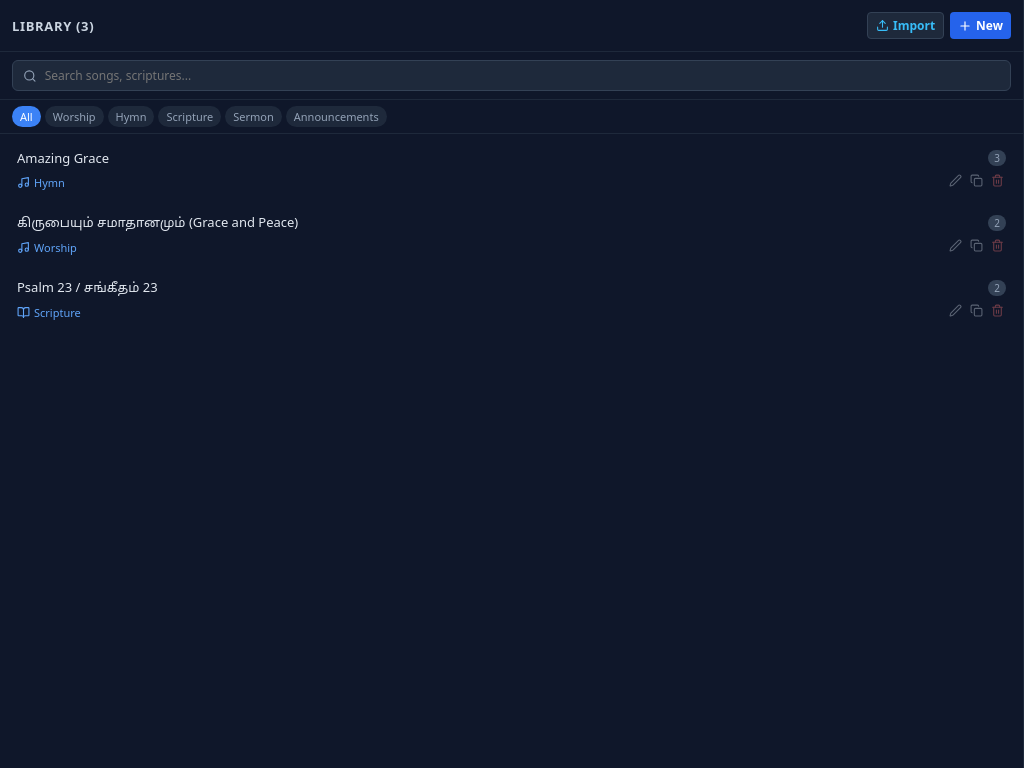
it: presentation list › finds a presentation by text on its slides and shows which slide
This screenshot has width=1024, height=768.
Type "wretch like" into the field with placeholder "Search songs, scriptures...".
click(522, 76); type("wretch like")  # box x1=45 y1=67 x2=1000 y2=84
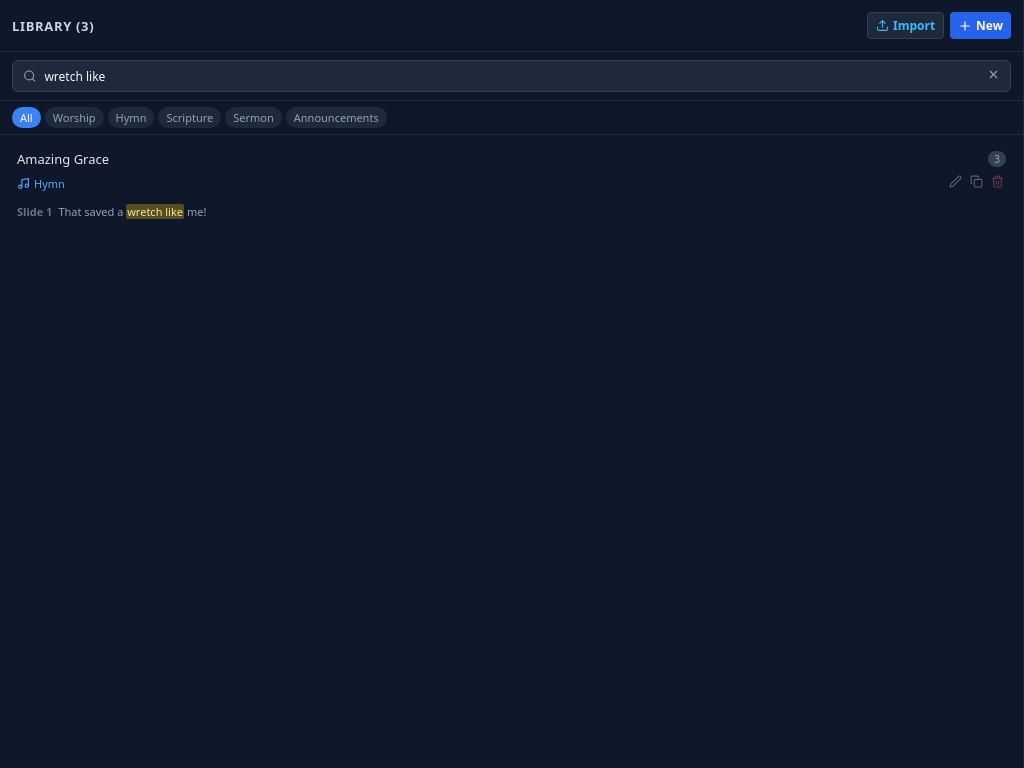
Expected: the element with test id "search-preview" shows "Slide 1", x1=17 y1=204 x2=52 y2=219
Expected: the text "wretch like" is shown, x1=126 y1=204 x2=184 y2=219
